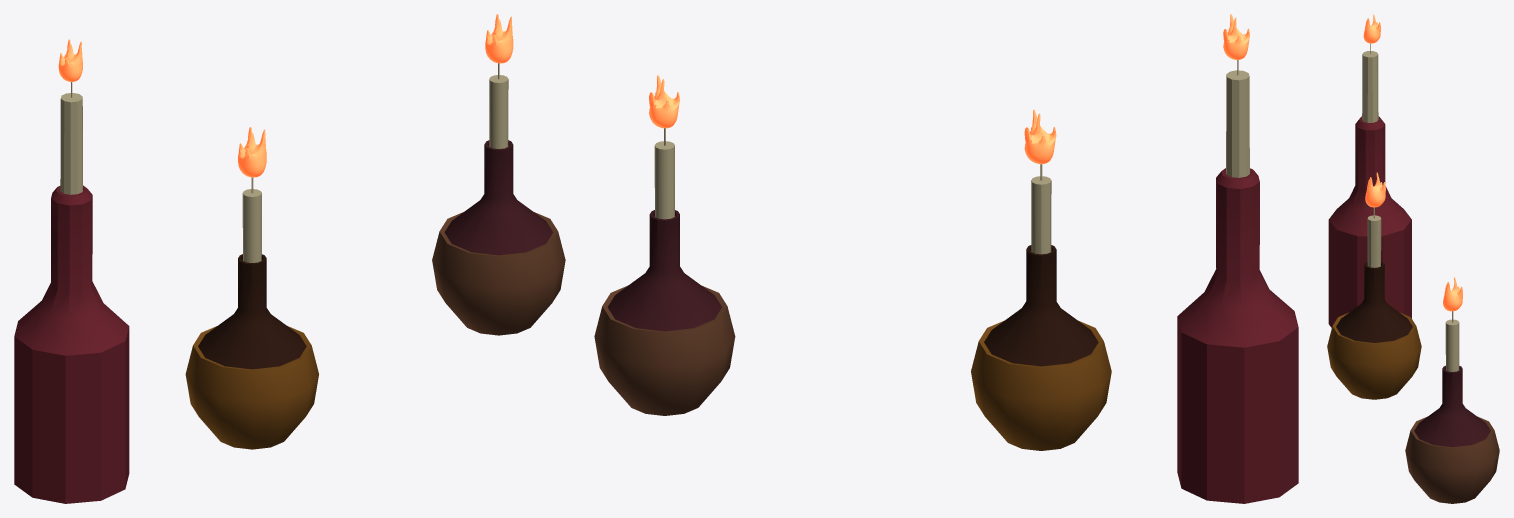
File: Candele + bottiglie .fbx
3 views of the same model, side by side, from view 1: azimuth 30°, elevation 25°; view 2: azimuth 150°, elevation 25°; view 3: azimuth 270°, elevation 25° (orthographic). The views are drawn at different scales.
Parts seen in each view (by area): view 1: Bottle 1.006; view 2: Bottle 1.006; view 3: Bottle 1.006.
Boxes of the visible parts, x1,y1,x2,y2 form: Bottle 1.006: [14, 14, 565, 503]; Bottle 1.006: [594, 14, 1298, 503]; Bottle 1.006: [1327, 14, 1499, 503].
Size of the model in its own units: 184 by 131 by 65.73.
